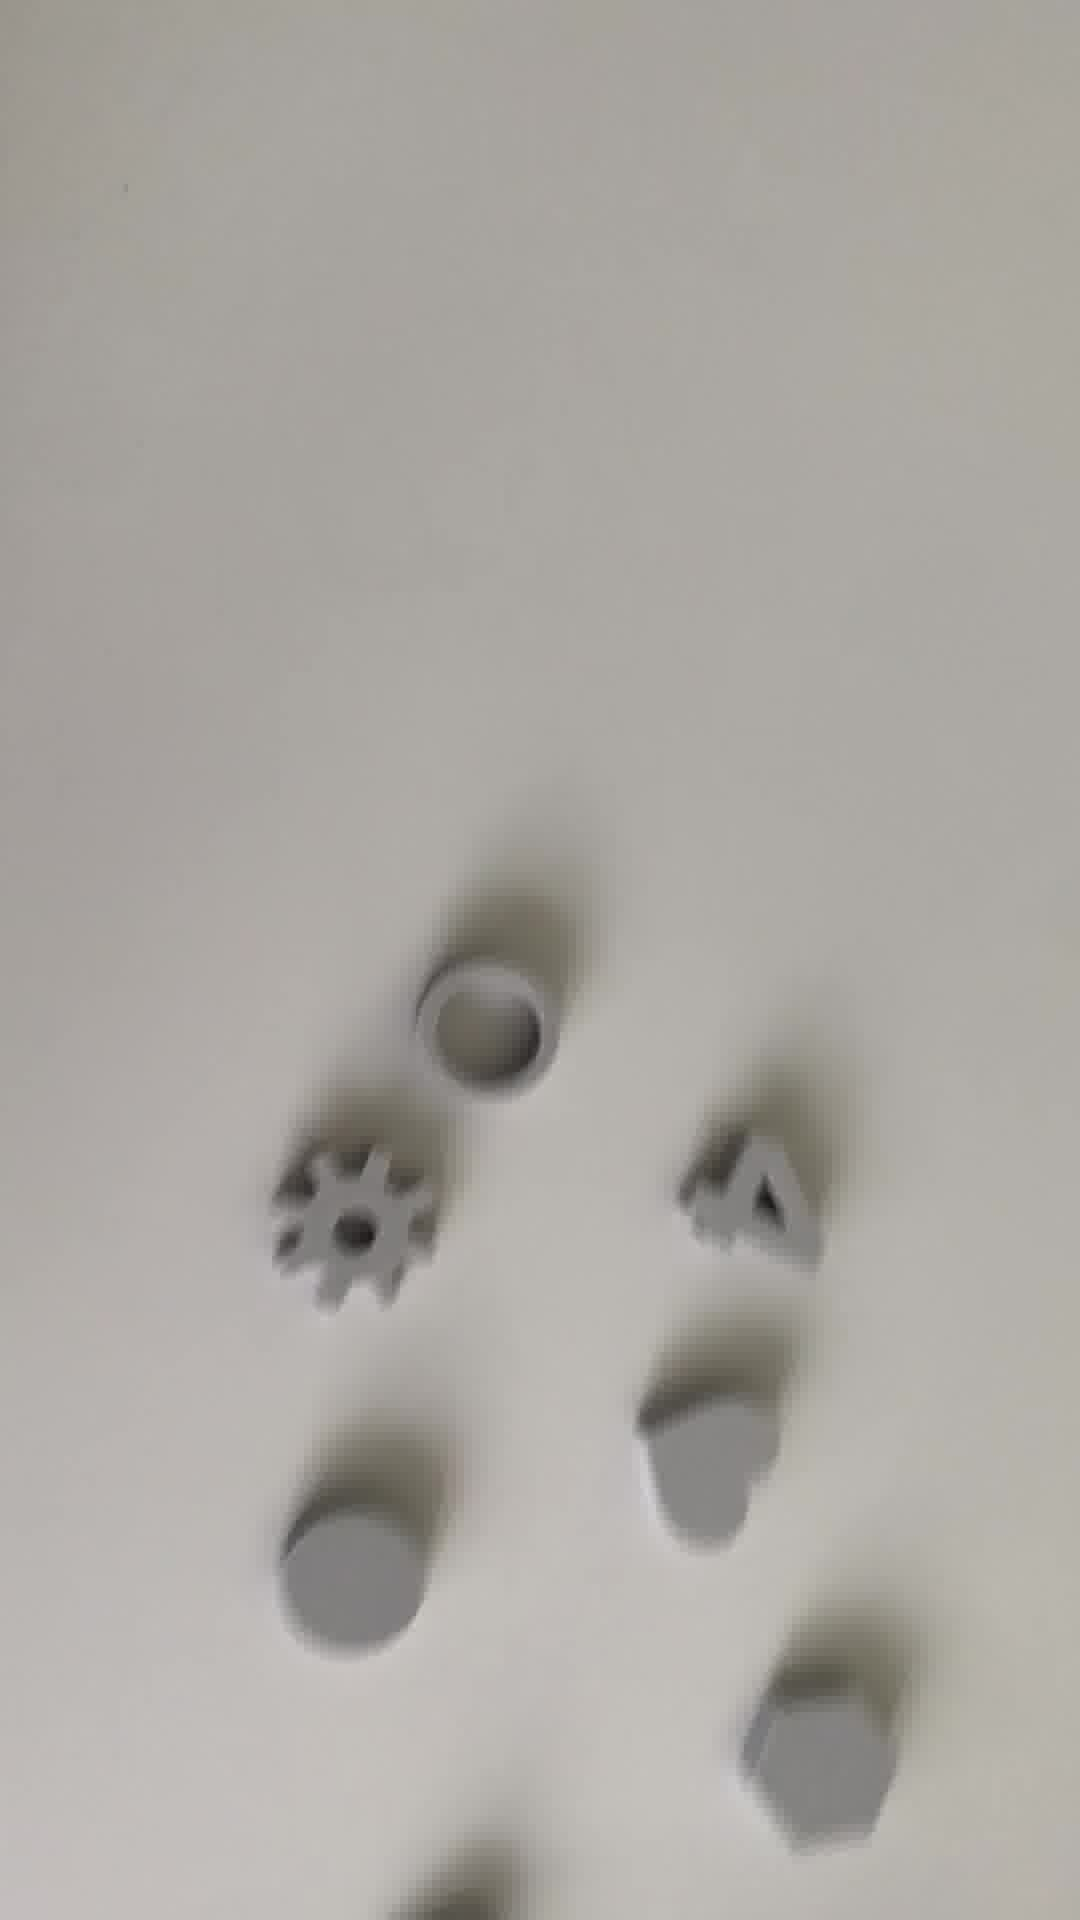Gray circle: (272, 1491, 433, 1665)
Gray four: (671, 1131, 841, 1288)
Gray gear: (261, 1149, 431, 1320)
Gray heart: (622, 1383, 798, 1567)
Gray hexagon: (735, 1681, 914, 1854)
Gray ring: (400, 952, 556, 1124)
